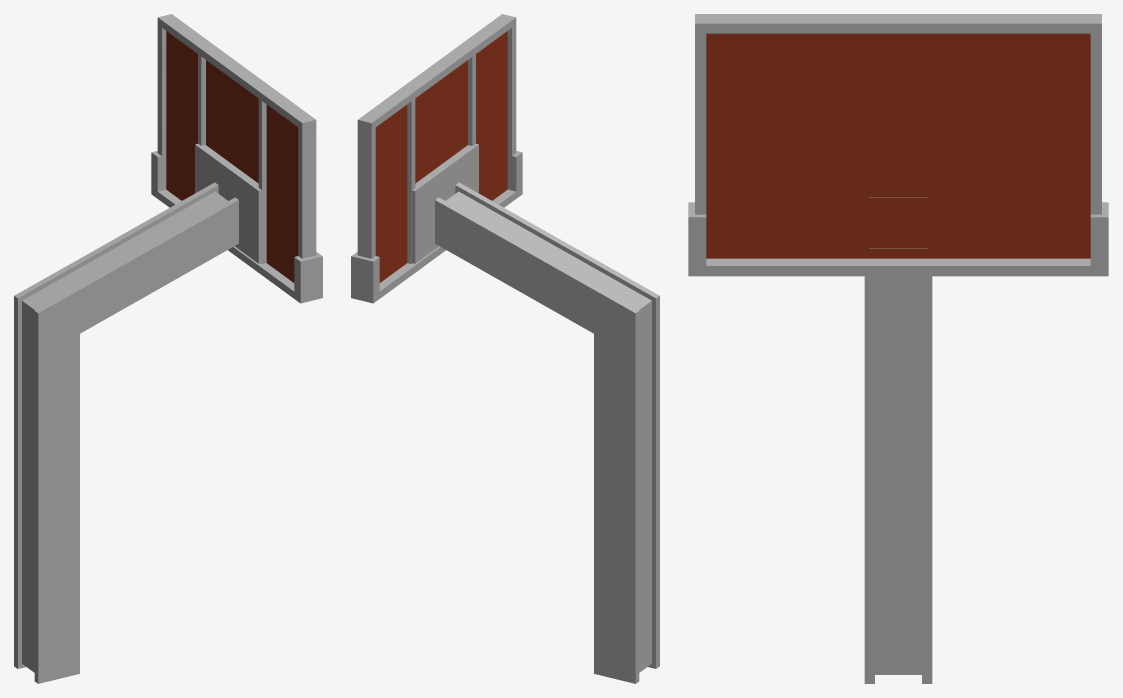
File: Structure.fbx
The picture shows the model from 3 angles, left to right: view 1: azimuth 30°, elevation 25°; view 2: azimuth 150°, elevation 25°; view 3: azimuth 270°, elevation 25°; orthographic projection. The views are drawn at different scales.
Parts seen in each view (by area): view 1: Pole; view 2: Pole; view 3: Pole.
Part boxes in pixels (bbox=[...]): Pole: bbox=[14, 14, 322, 683]; Pole: bbox=[351, 14, 659, 683]; Pole: bbox=[688, 14, 1108, 683].
Size of the model in its own units: 160 by 381 by 186.
